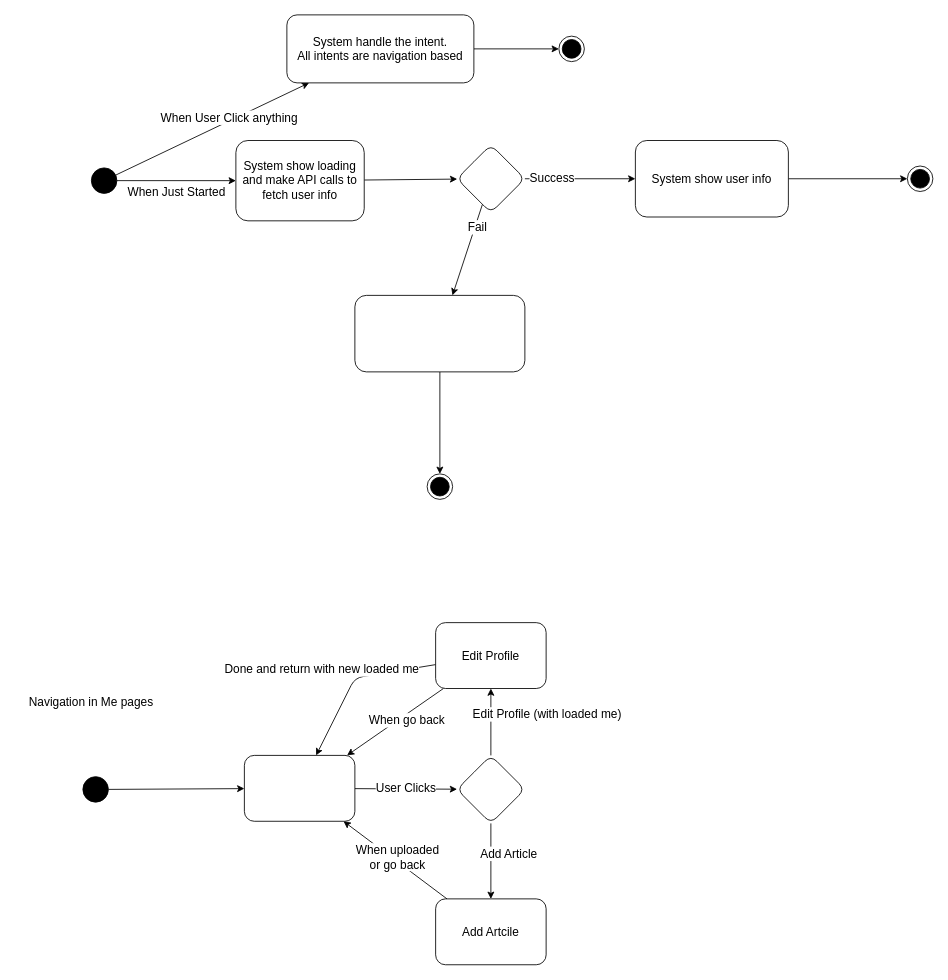
This 948x980 diagram has some shape labels left out. Here are the shapes that lost their labels. From the top down, the centre of each, then its label:
the point at 439,333: System shows error info
the point at 299,788: Me
